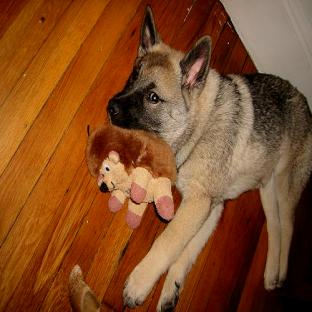Animal: (107, 6, 312, 310)
